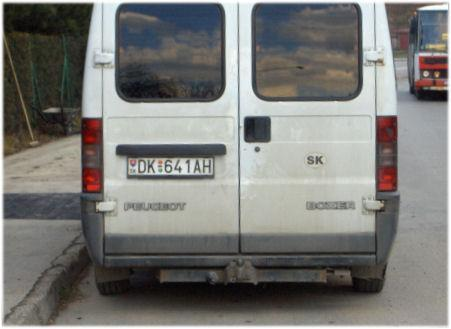placa de veiculo: (122, 147, 219, 189)
